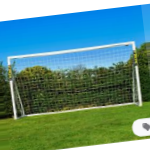goals: (8, 40, 142, 119)
